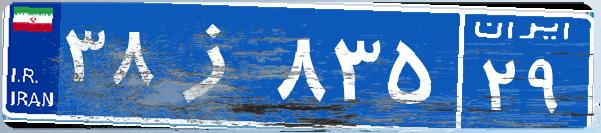2: (475, 38, 525, 113)
3: (330, 28, 385, 110), (57, 26, 110, 107)
5: (385, 28, 445, 110)
8: (273, 28, 330, 110), (110, 28, 158, 105)
9: (525, 38, 570, 115)
ز: (158, 15, 273, 115)
